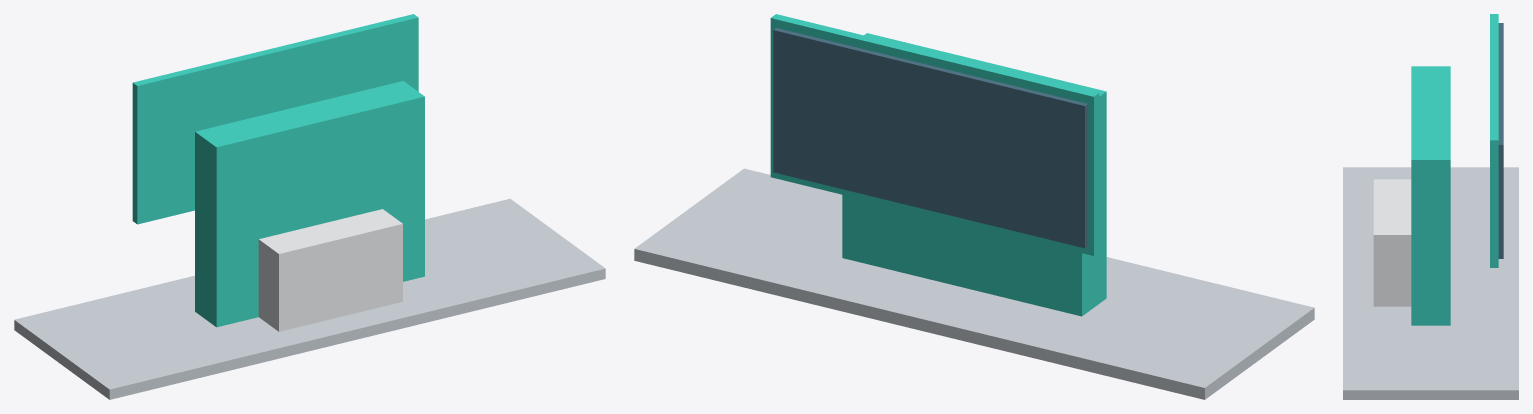
The picture shows the model from 3 angles, left to right: view 1: azimuth 30°, elevation 25°; view 2: azimuth 150°, elevation 25°; view 3: azimuth 270°, elevation 25°; orthographic projection. The views are drawn at different scales.
Parts seen in each view (by area): view 1: Exhibition Booth Concept; view 2: Exhibition Booth Concept; view 3: Exhibition Booth Concept.
Part boxes in pixels (x1,y1,x2,y2): Exhibition Booth Concept: [14, 14, 605, 399]; Exhibition Booth Concept: [634, 14, 1314, 399]; Exhibition Booth Concept: [1343, 14, 1518, 399].
Bounding box in the file's own units: 6 × 2.65 × 2.
